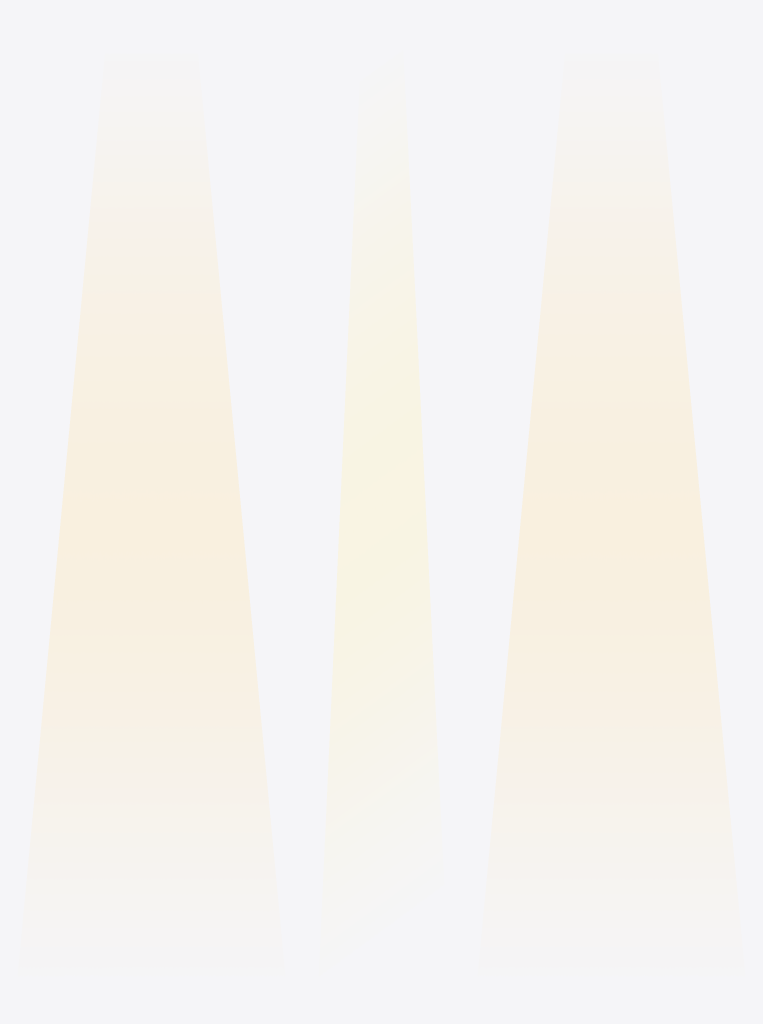
The model's file is s0_GodRay_01__1__01.glb.
3 renders of one model, left to right at view 1: azimuth 90°, elevation 25°; view 2: azimuth 150°, elevation 25°; view 3: azimuth 270°, elevation 25°, orthographic. The views are drawn at different scales.
Visible parts, largest first — view 1: node_GodRay_01 (1); view 2: node_GodRay_01 (1); view 3: node_GodRay_01 (1).
Part boxes in pixels (x1,y1,x2,y2): node_GodRay_01 (1): (31, 181, 271, 832); node_GodRay_01 (1): (325, 166, 437, 837); node_GodRay_01 (1): (491, 181, 731, 832).
Bounding box in the file's own units: 2.95e-15 × 11.28 × 2.82.
1 material, 1 textured.
